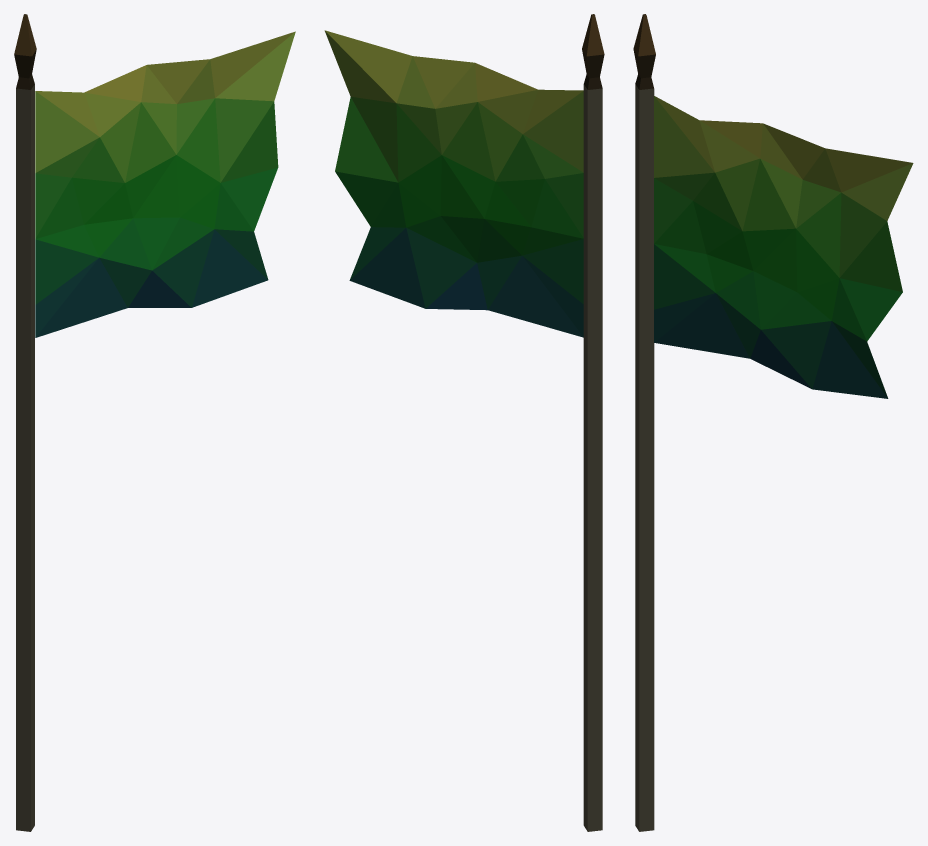
Rendered from Prop_FlagSquareB.fbx.
3 renders of one model, left to right at view 1: azimuth 30°, elevation 25°; view 2: azimuth 150°, elevation 25°; view 3: azimuth 330°, elevation 25°, orthographic.
Parts seen in each view (by area): view 1: Prop_FlagSquareB; view 2: Prop_FlagSquareB; view 3: Prop_FlagSquareB.
Boxes of the visible parts, box(x1,y1,x2,y2) form: Prop_FlagSquareB: box(14, 14, 295, 831); Prop_FlagSquareB: box(324, 14, 604, 831); Prop_FlagSquareB: box(633, 14, 913, 831).
Bounding box in the file's own units: 149 × 411 × 11.99.
